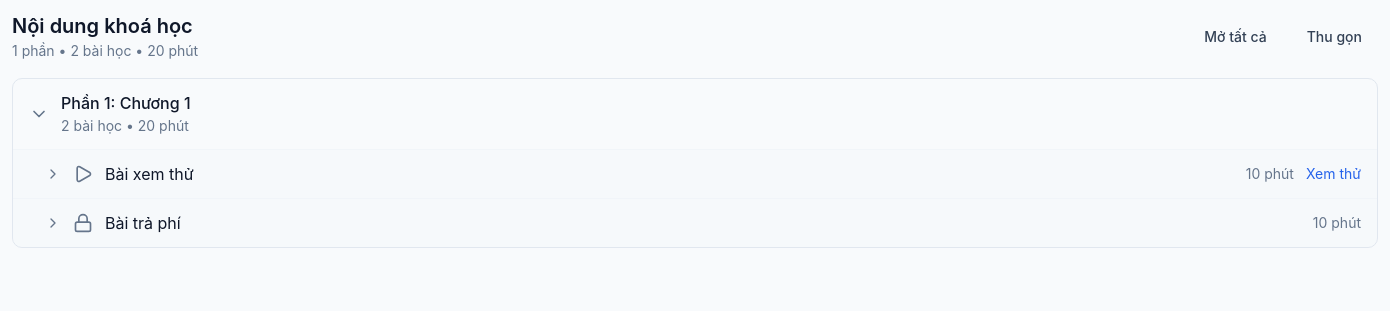
CourseSyllabus — khách xem thử › bài trả phí (chưa ghi danh): không gọi API, báo cần đăng ký khoá học
This screenshot has width=1390, height=311.
Click the text "Bài trả phí".
click(143, 223)  # box x1=105 y1=213 x2=181 y2=233
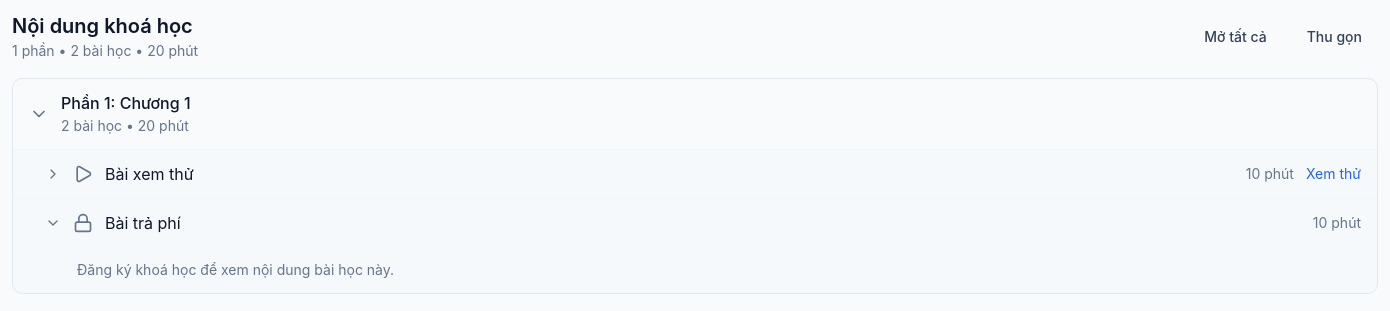
Check: the text "Đăng ký khoá học để xem nội dung bài học này." is shown, box x1=77 y1=261 x2=394 y2=278
